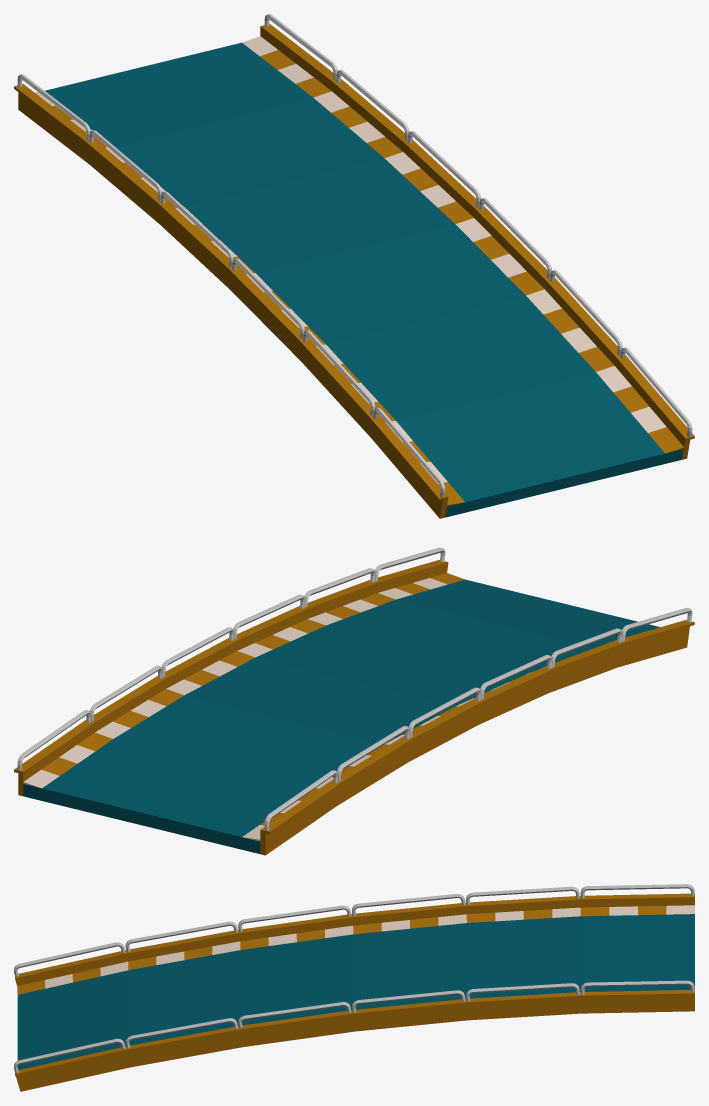
The model's file is descent-15_l.FBX.
The picture shows the model from 3 angles, top to bottom: view 1: azimuth 30°, elevation 25°; view 2: azimuth 150°, elevation 25°; view 3: azimuth 270°, elevation 25°; orthographic projection. The views are drawn at different scales.
Visible parts, largest first — view 1: descent-15_l, wall_r, wall_l, curbs_l, curbs_r; view 2: descent-15_l, wall_r, wall_l, curbs_l, curbs_r; view 3: descent-15_l, wall_l, wall_r, curbs_r.
Boxes of the visible parts, bbox=[...] form: descent-15_l: bbox=[45, 42, 683, 517]; wall_r: bbox=[14, 74, 448, 518]; wall_l: bbox=[260, 14, 694, 459]; curbs_l: bbox=[242, 36, 683, 453]; curbs_r: bbox=[35, 92, 464, 506]; descent-15_l: bbox=[23, 579, 659, 853]; wall_r: bbox=[260, 608, 694, 855]; wall_l: bbox=[14, 547, 448, 796]; curbs_l: bbox=[23, 573, 464, 788]; curbs_r: bbox=[242, 671, 533, 841]; descent-15_l: bbox=[17, 914, 694, 1069]; wall_l: bbox=[14, 980, 694, 1091]; wall_r: bbox=[14, 884, 694, 985]; curbs_r: bbox=[17, 905, 694, 994].
Size of what is drawn, in the model's own units: 207 by 107 by 596.
